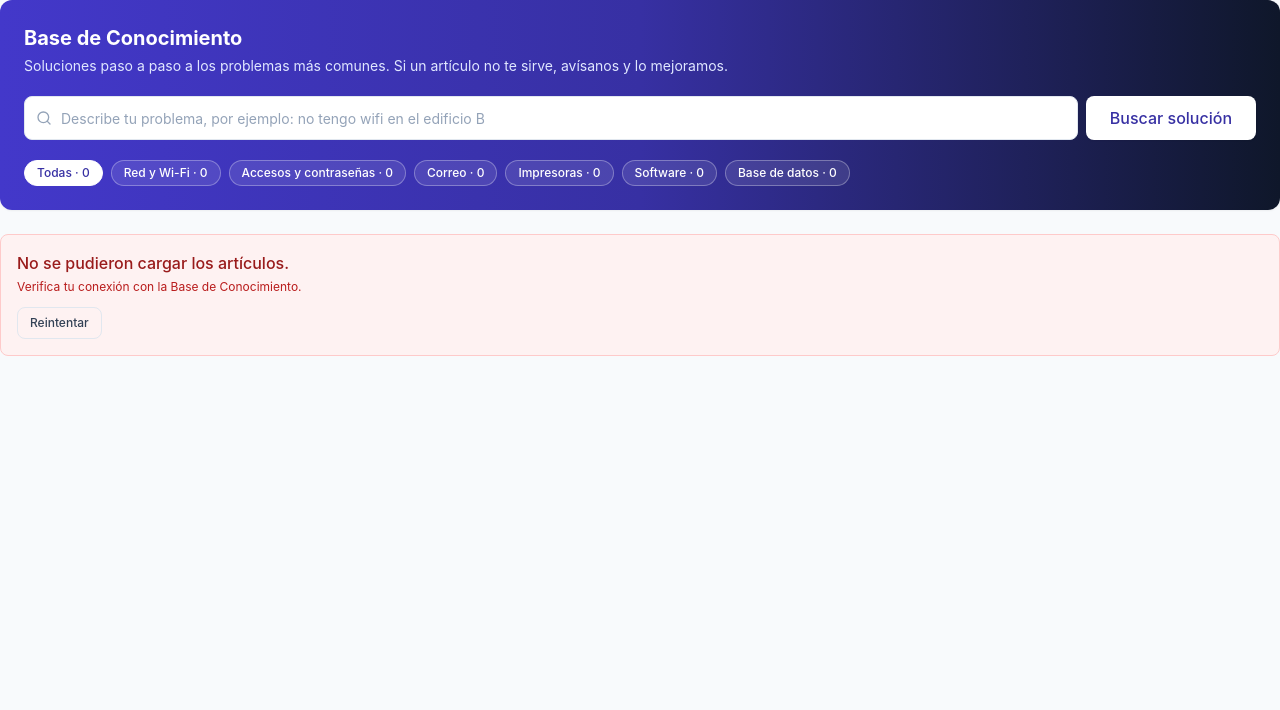
Test: KnowledgePage › muestra un error con reintento si el servicio no responde
Check: the message shows "No se pudieron cargar los artículos.", box [17,253,289,273]
What coordinates should you click on to do the following:
click the button "Reintentar"
I would click on:
 (59, 323)
Its box is [17,307,102,339].
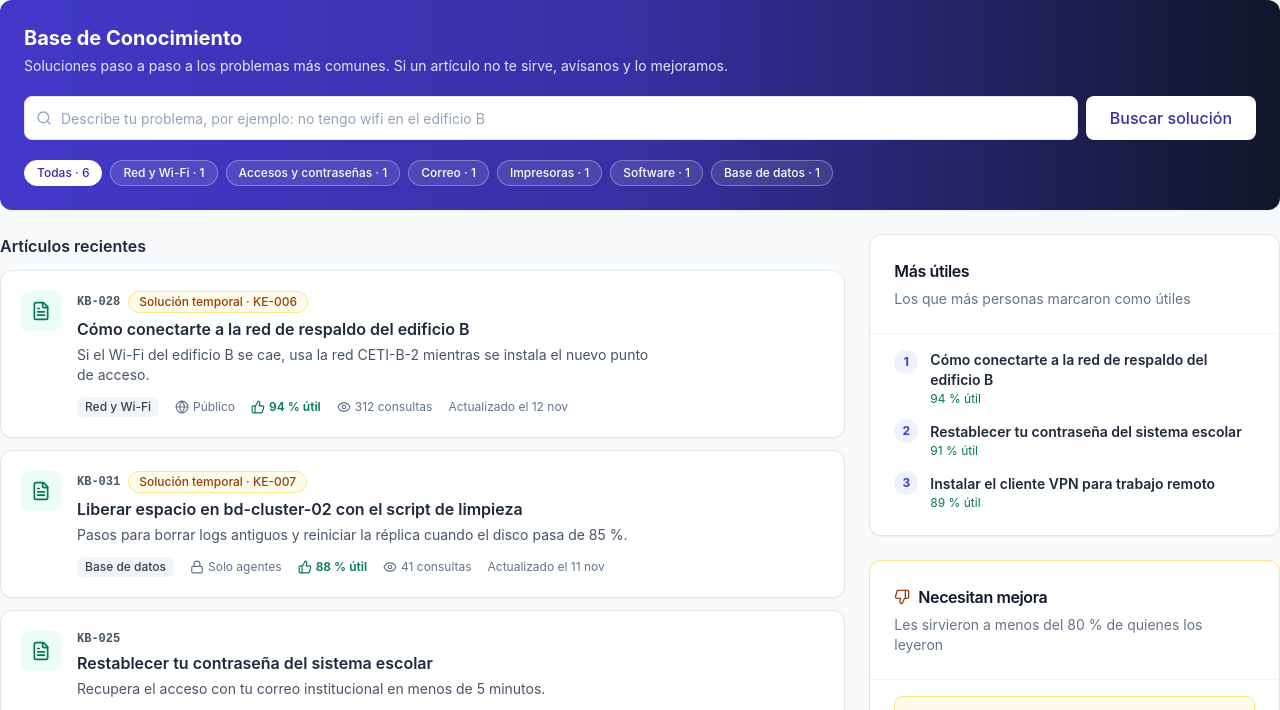
Check: the heading "Artículos recientes" is shown, box [0,236,146,256]
